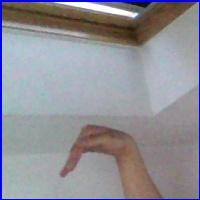del: (57, 123, 142, 185)
